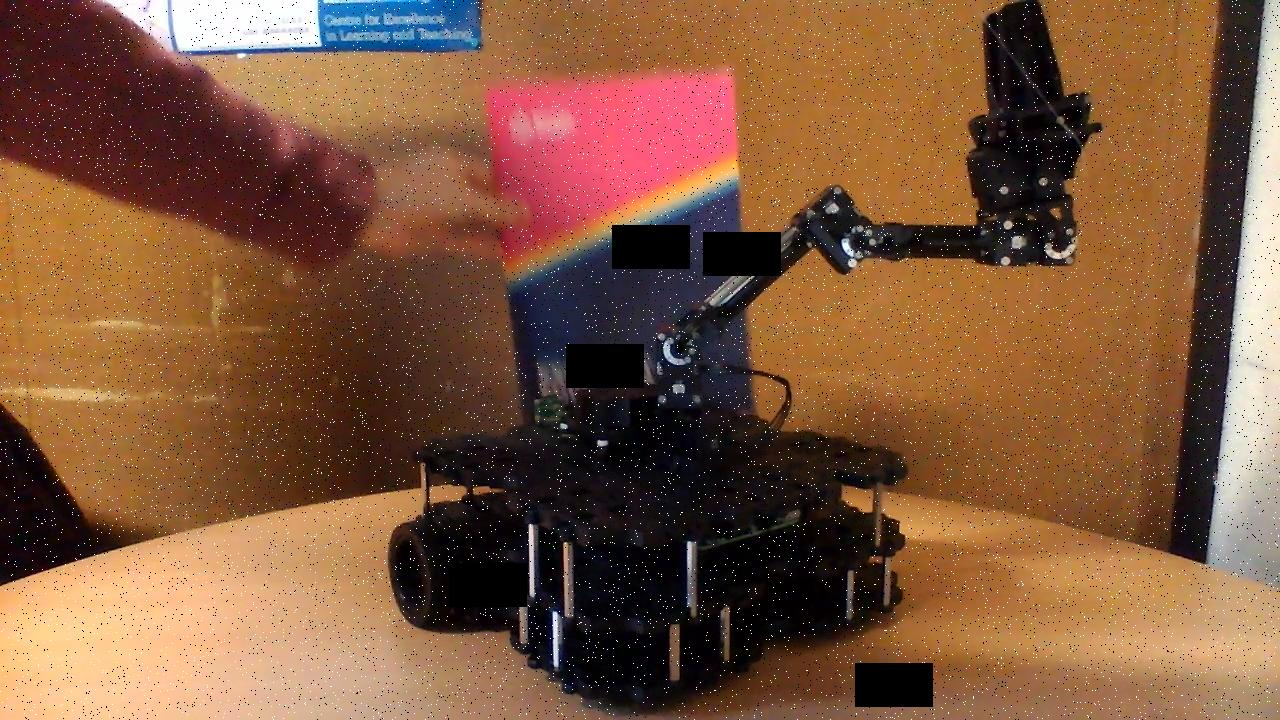Arm: (653, 181, 854, 372)
Hand: (961, 1, 1108, 221)
Wrist: (839, 215, 1084, 270)
base: (381, 380, 909, 708)
